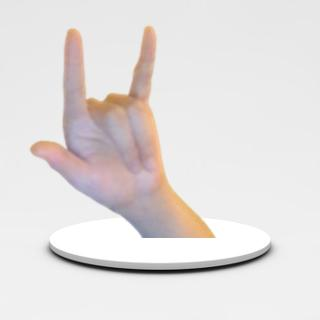ILY: (23, 21, 171, 212)
